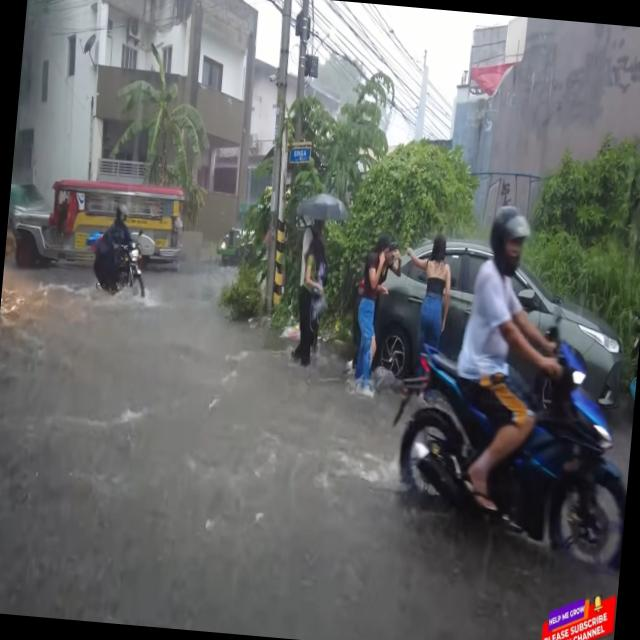full: (482, 198, 534, 282)
